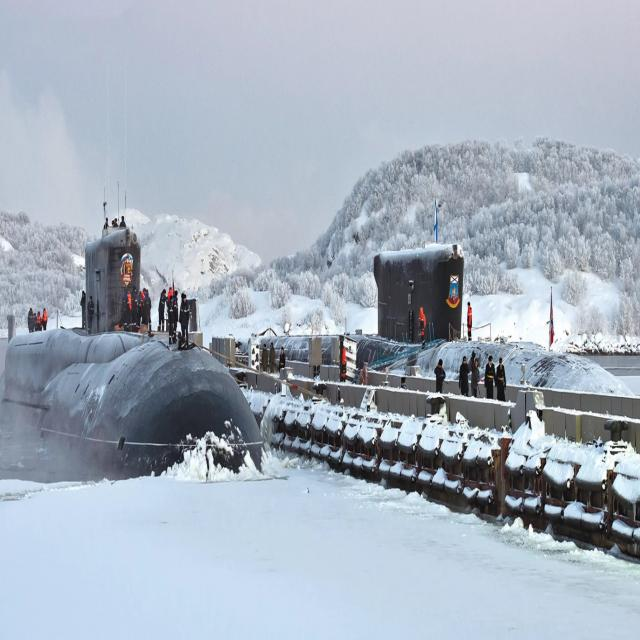submarine: (1, 167, 288, 487)
